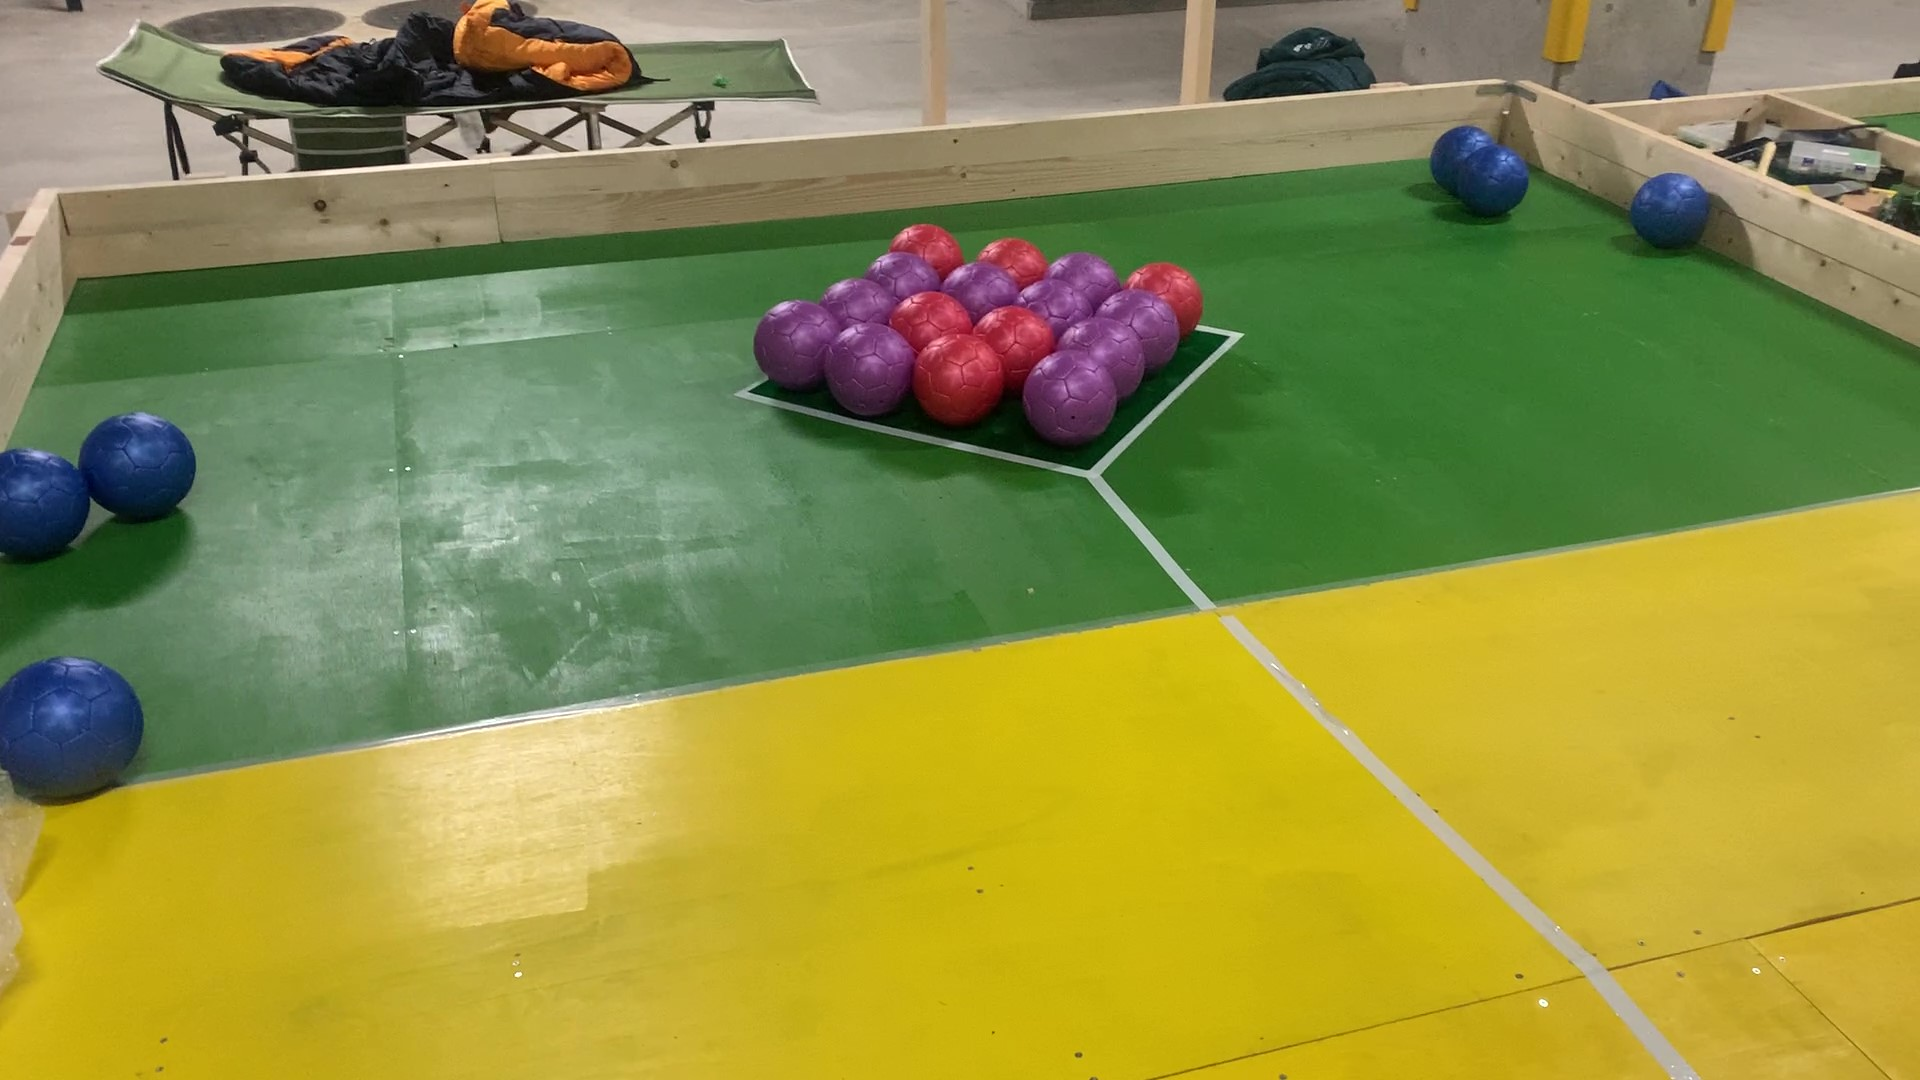blue: (16, 675, 131, 791), (84, 422, 186, 508), (9, 452, 74, 554), (1635, 174, 1700, 237), (1465, 154, 1518, 211), (1432, 129, 1456, 187)
purple: (835, 323, 906, 410), (750, 305, 820, 384), (1030, 369, 1108, 433), (1101, 323, 1146, 386), (1100, 289, 1172, 323), (827, 282, 880, 324), (1036, 281, 1081, 327), (878, 256, 930, 294), (963, 268, 1009, 305), (1062, 253, 1108, 284)
red: (927, 342, 992, 411), (994, 313, 1048, 368), (887, 298, 967, 332), (895, 220, 965, 256), (994, 236, 1044, 270), (1149, 266, 1203, 293)
